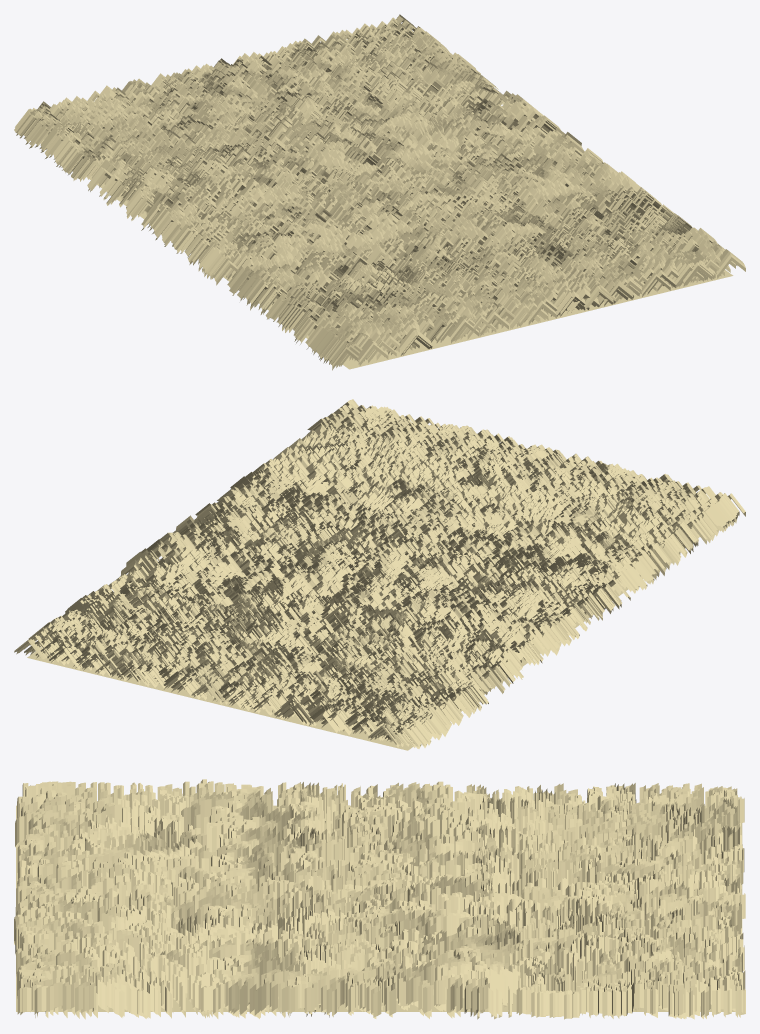
The model's file is Carpet.fbx.
3 renders of one model, top to bottom at view 1: azimuth 30°, elevation 25°; view 2: azimuth 150°, elevation 25°; view 3: azimuth 270°, elevation 25°, orthographic. The views are drawn at different scales.
Visible parts, largest first — view 1: Carpet, Carpet.001; view 2: Carpet, Carpet.001; view 3: Carpet, Carpet.001.
Boxes of the visible parts, x1=… form: Carpet: x1=14, y1=14, x2=745, y2=370; Carpet.001: x1=40, y1=96, x2=733, y2=369; Carpet: x1=14, y1=399, x2=745, y2=748; Carpet.001: x1=27, y1=498, x2=698, y2=750; Carpet: x1=14, y1=779, x2=745, y2=1019; Carpet.001: x1=16, y1=805, x2=742, y2=1011.
Size of the model in its own units: 145 by 8.55 by 202.
